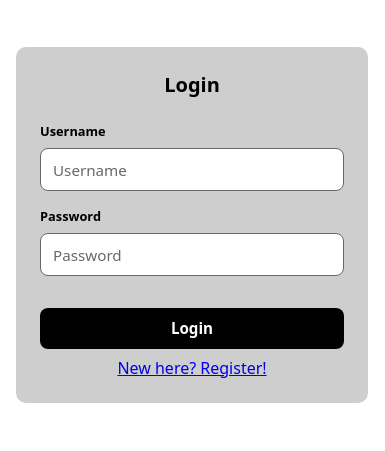
Test case: LoginPage › shows credential error on 401
The image size is (385, 451).
Type "tester" into the field labelled "Username" at (192, 170), box [40,148,344,191]
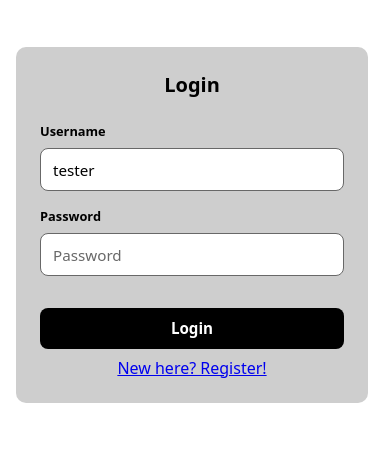
Type "password" into the password field labelled "Password" at (192, 254), box [40,233,344,276]
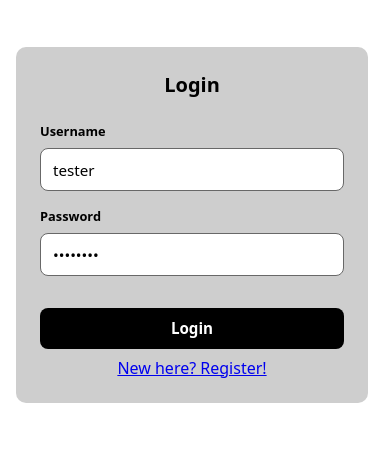
Submit the form with id "login-form"
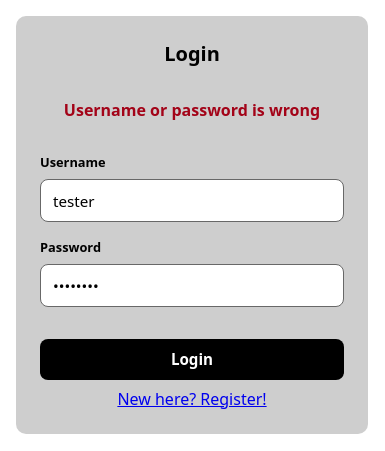
Expected: the text "Username or password is wrong" is shown, [64,99,320,121]
